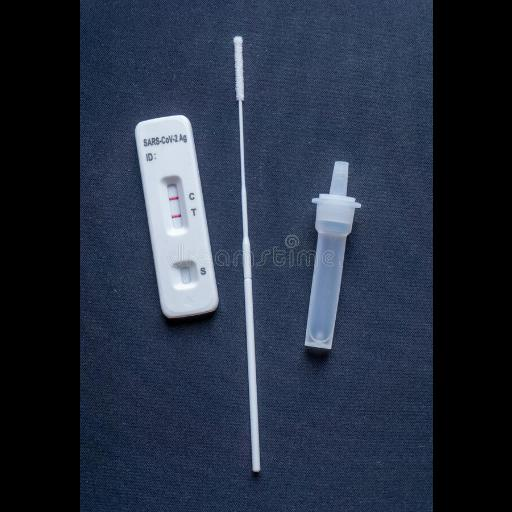Pos: (130, 114, 220, 319)
